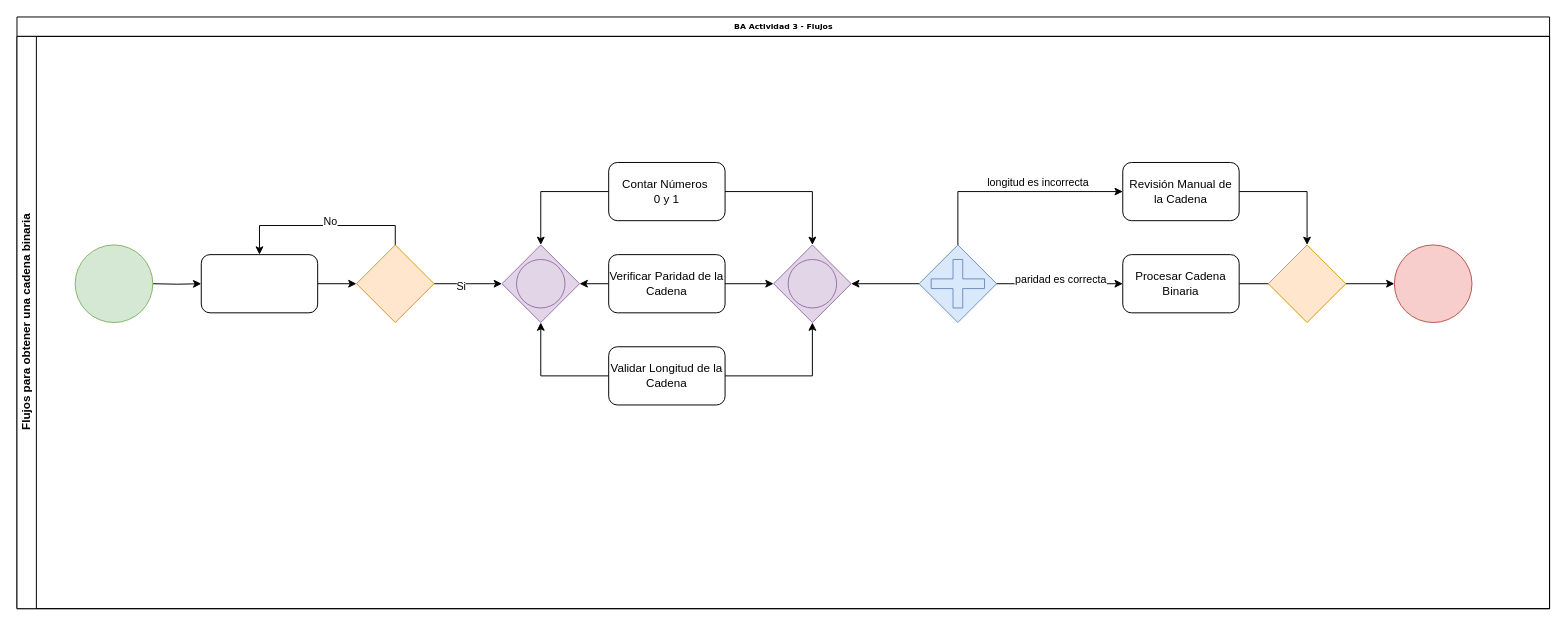
The diagram is 1567 pixels wide and 626 high, and some of its shapes have lost their labels. Here are the shapes that lost their labels. From the top down, the centre of each, then its label:
At (113,283): "Inicio".
At (259,283): "Escribir cadena binaria".
At (395,283): "Cadena binaria valida".
At (1432,283): "Fin".
